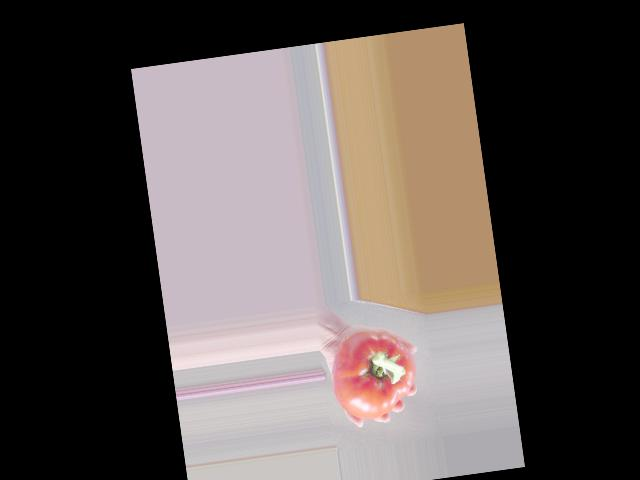tomato: (326, 325, 421, 423)
